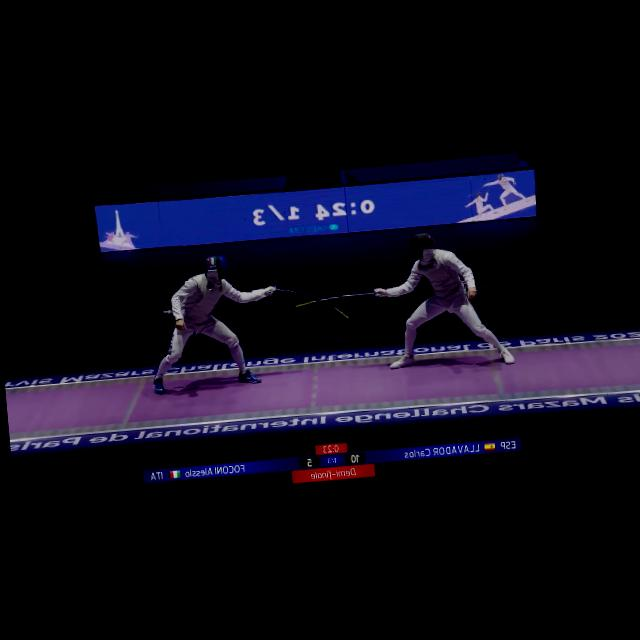blade: (264, 277, 348, 329), (289, 284, 384, 315)
